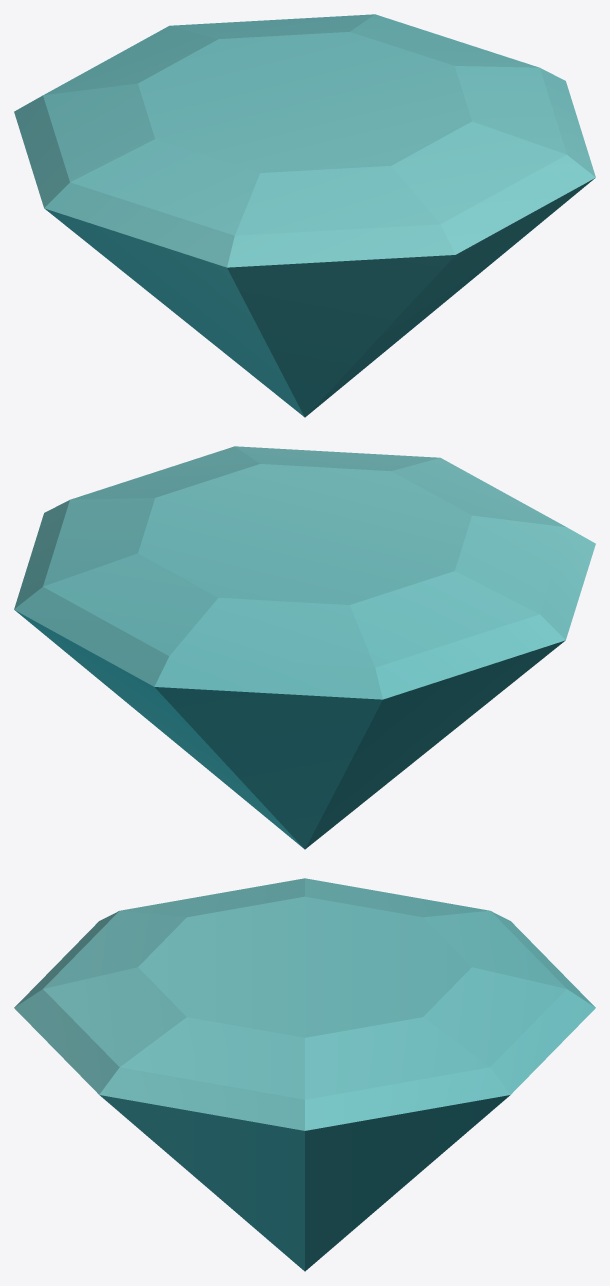
Rendered from Diamond.glb.
3 views of the same model, one above another, from view 1: azimuth 30°, elevation 25°; view 2: azimuth 150°, elevation 25°; view 3: azimuth 270°, elevation 25° (orthographic). The views are drawn at different scales.
Parts seen in each view (by area): view 1: Cone; view 2: Cone; view 3: Cone.
Part boxes in pixels (x1,y1,x2,y2): Cone: (14,14,595,417); Cone: (14,446,595,849); Cone: (14,878,595,1271).
Bounding box in the file's own units: 0.1732 × 0.1 × 0.1732.
Materials: 1 (1 with a texture image).
